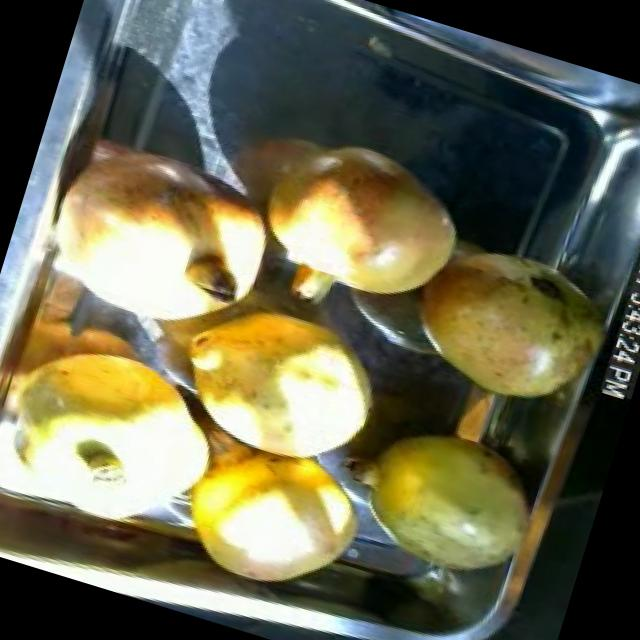fruit: (20, 113, 302, 364), (144, 268, 410, 494), (0, 313, 254, 542), (234, 111, 488, 328), (384, 219, 626, 426), (318, 393, 554, 598), (150, 411, 386, 613)
